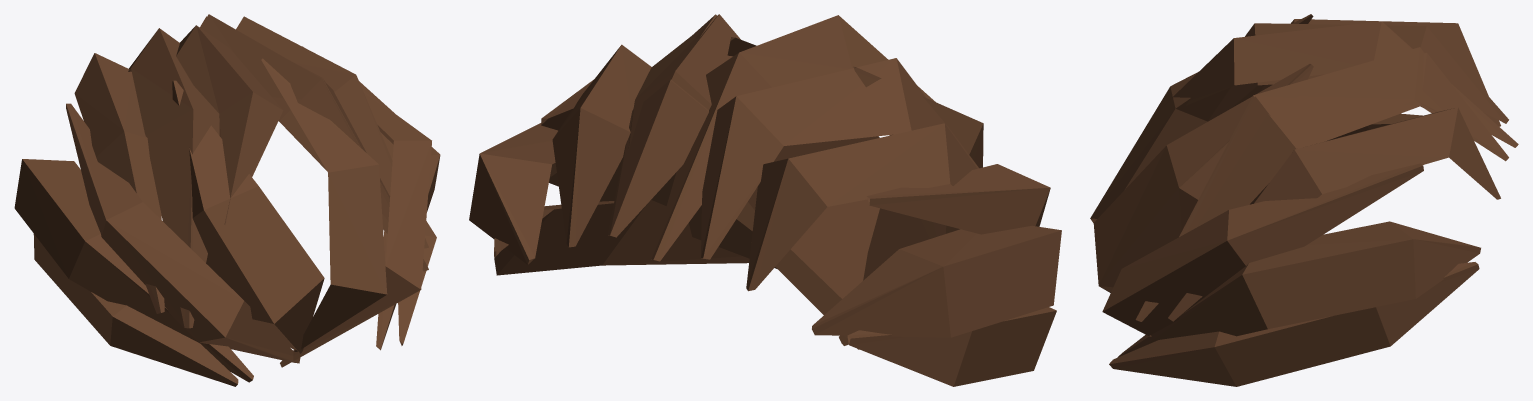
Rendered from PeinadoGato.fbx.
3 views of the same model, side by side, from view 1: azimuth 30°, elevation 25°; view 2: azimuth 150°, elevation 25°; view 3: azimuth 270°, elevation 25° (orthographic). The views are drawn at different scales.
Visible parts, largest first — view 1: PeinadoGato; view 2: PeinadoGato; view 3: PeinadoGato.
Part boxes in pixels (x1,y1,x2,y2): PeinadoGato: (14, 14, 440, 386); PeinadoGato: (469, 14, 1061, 386); PeinadoGato: (1090, 14, 1518, 386).
Bounding box in the file's own units: 1.28 × 0.9256 × 1.12.
